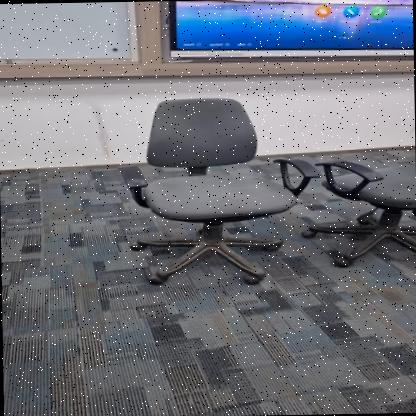chair: (113, 90, 317, 288)
